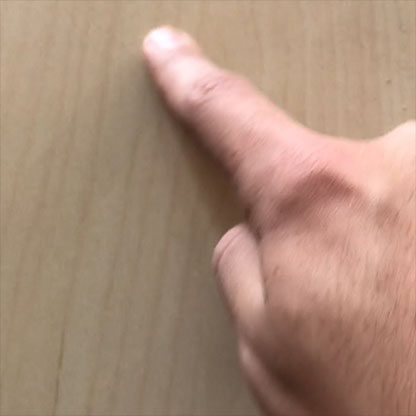fingertip: (132, 20, 205, 67)
